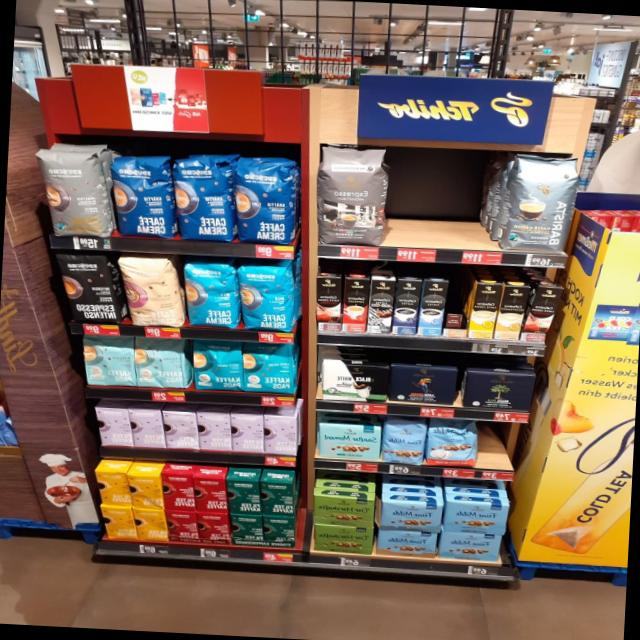BM Gemahlen: (464, 370, 536, 413)
BW Gemahlen: (318, 362, 389, 406)
Barista CC: (498, 148, 582, 255)
Empty Shelf: (388, 146, 502, 251), (477, 421, 522, 470), (445, 281, 477, 330)
Espresso Aromatisch: (316, 144, 391, 249)
FM 36 Pads: (426, 419, 477, 468)
FM Bohne: (381, 418, 426, 466)
FM Gemahlen: (444, 501, 510, 536), (379, 500, 444, 534), (438, 532, 503, 564), (377, 530, 440, 559)
Herzhatfe Mundig: (312, 496, 376, 528), (313, 524, 374, 556)
LG Gemahlen: (388, 364, 458, 406)
SM Gemahlen: (316, 422, 382, 462)
Simo CC Colombia: (521, 286, 565, 341), (315, 276, 341, 332)
Simo CCMild bigpack: (468, 284, 502, 339)
Simo Decaff: (494, 285, 530, 340)
Simo Es Brazil: (342, 278, 370, 334)
Simo Es Elegant: (368, 278, 395, 334)
Simo Es Kraft: (391, 279, 422, 336)
Simo Es Vanilla: (417, 279, 449, 337)
